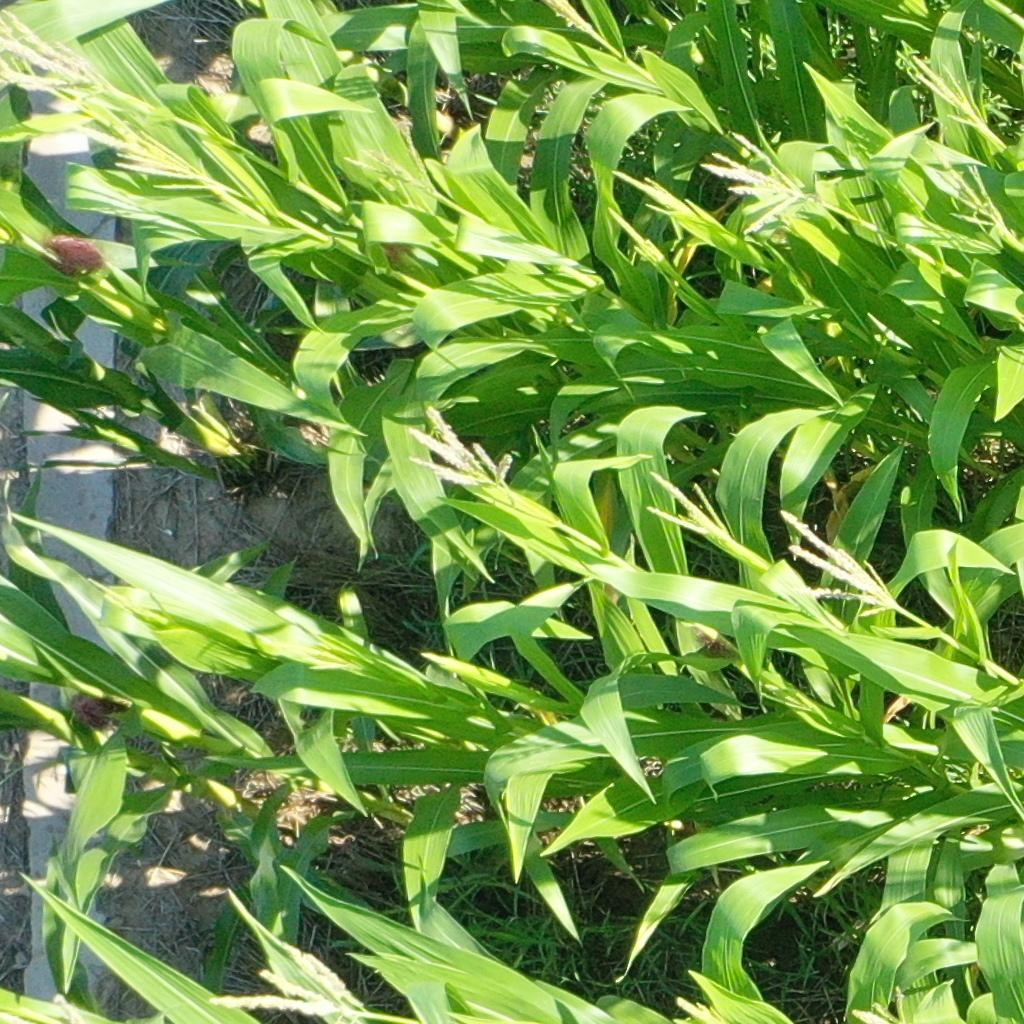Tassel: (203, 934, 370, 1024), (775, 506, 899, 621), (700, 125, 811, 233), (1, 7, 118, 106), (69, 117, 215, 188), (401, 402, 517, 490), (338, 114, 446, 199), (917, 127, 1007, 228), (890, 40, 984, 126), (637, 467, 734, 540), (611, 165, 699, 222), (603, 203, 668, 264), (1, 990, 87, 1024), (851, 983, 909, 1024), (83, 576, 138, 612), (542, 1, 602, 33), (296, 635, 346, 673), (673, 995, 725, 1024), (419, 652, 459, 668)
